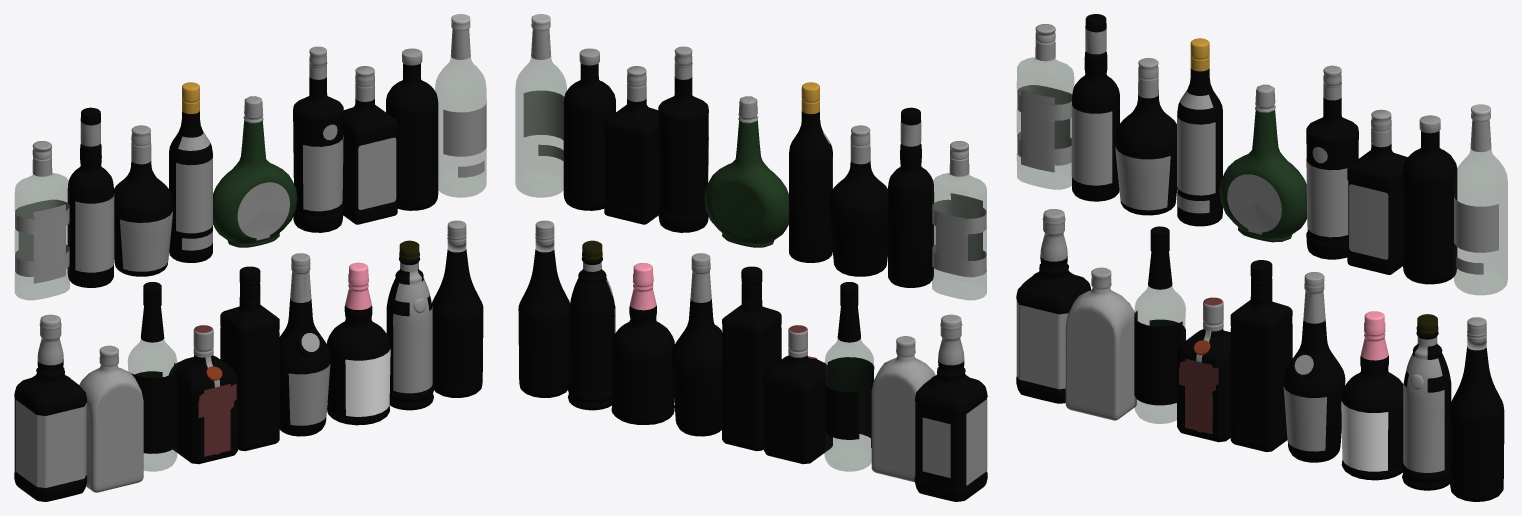
File: 3D Alcohol Bottles.obj
The picture shows the model from 3 angles, left to right: view 1: azimuth 30°, elevation 25°; view 2: azimuth 150°, elevation 25°; view 3: azimuth 330°, elevation 25°; orthographic projection. The views are drawn at different scales.
Visible parts, largest first — view 1: Jack_Daniel`s, Beefeater, Amare, chivasRegal, Becherovka, pernod, Curacao, Jagermeister, Malibu, Olmeca, cointreau, martel (+6 smaller); view 2: Jack_Daniel`s, Beefeater, Amare, chivasRegal, pernod, Becherovka, Curacao, Jameson, cointreau, Malibu, Olmeca, martel (+6 smaller); view 3: Beefeater, Jagermeister, Jack_Daniel`s, pernod, Curacao, chivasRegal, martel, Becherovka, Malibu, Line01, Jameson, Olmeca (+6 smaller).
Boxes of the visible parts, x1,y1,x2,y2 form: Jack_Daniel`s: (14,314,86,501); Beefeater: (220,266,279,451); Amare: (293,46,343,232); chivasRegal: (327,262,390,425); Becherovka: (15,141,69,299); pernod: (435,14,486,197); Curacao: (213,96,297,247); Jagermeister: (79,345,143,492); Malibu: (432,220,483,397); Olmeca: (342,66,397,224); cointreau: (169,325,238,464); martel: (279,253,330,436); Jack_Daniel`s: (914,314,987,501); Beefeater: (722,266,781,451); Amare: (658,46,708,232); chivasRegal: (611,263,674,424); pernod: (515,14,566,197); Becherovka: (932,141,986,299); Curacao: (704,96,788,247); Jameson: (824,282,874,471); cointreau: (763,325,832,464); Malibu: (518,220,569,397); Olmeca: (604,66,659,224); martel: (671,253,722,436); Beefeater: (1230,260,1292,452); Jagermeister: (1065,267,1136,420); Jack_Daniel`s: (1016,209,1091,403); pernod: (1454,104,1507,294); Curacao: (1219,84,1306,242); chivasRegal: (1341,311,1403,480); martel: (1283,272,1345,462); Becherovka: (1017,24,1073,189); Malibu: (1449,317,1504,501); Line01: (1403,115,1457,284); Jameson: (1134,226,1185,423); Olmeca: (1347,109,1407,274).
Bounding box in the file's own units: 80.43 × 61.58 × 9.86.
